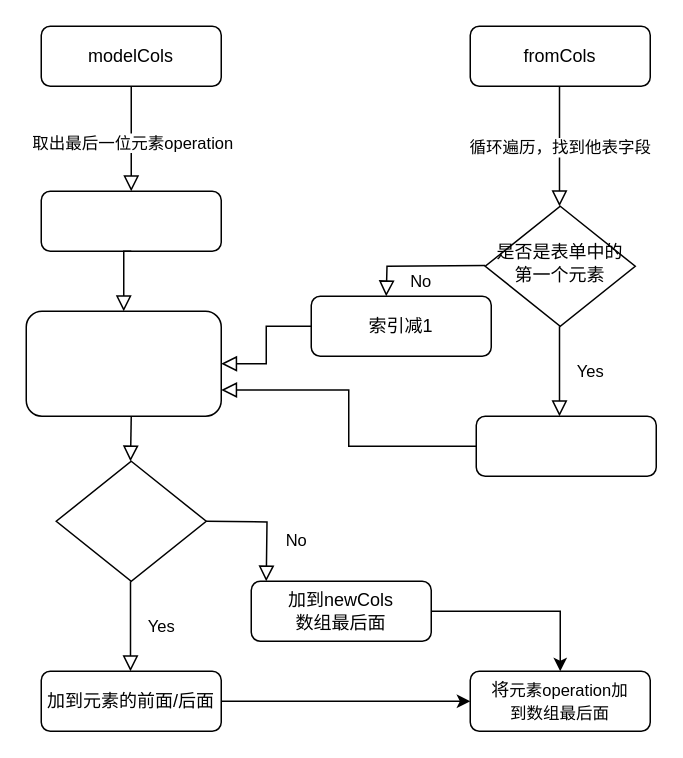
This 683x758 diagram has some shape labels left out. The centre of each missing label's shape, as x and y in pixels:
"newCols" belongs at pixel 130 220.
"从newCols数组中查找fromCols的新索引元素" belongs at pixel 123 363.
"元素是否 找到" belongs at pixel 130 520.
"索引加1" belongs at pixel 565 445.
